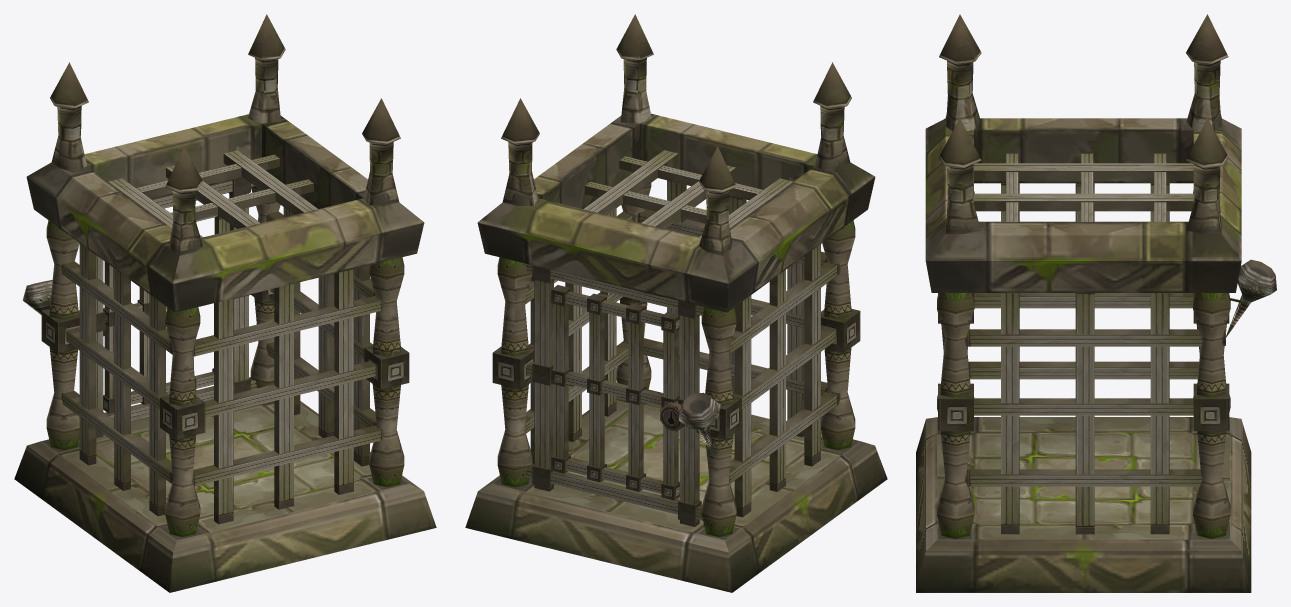
File: Lv6_AncientPrison02_bero.FBX
3 views of the same model, side by side, from view 1: azimuth 30°, elevation 25°; view 2: azimuth 150°, elevation 25°; view 3: azimuth 270°, elevation 25° (orthographic). The views are drawn at different scales.
Parts seen in each view (by area): view 1: Lv6_AncientPrison02_bero; view 2: Lv6_AncientPrison02_bero; view 3: Lv6_AncientPrison02_bero.
Boxes of the visible parts, box(x1,y1,x2,y2) form: Lv6_AncientPrison02_bero: box(14, 14, 436, 592); Lv6_AncientPrison02_bero: box(465, 14, 887, 592); Lv6_AncientPrison02_bero: box(916, 14, 1276, 592).
Bounding box in the file's own units: 169 × 257 × 184.
